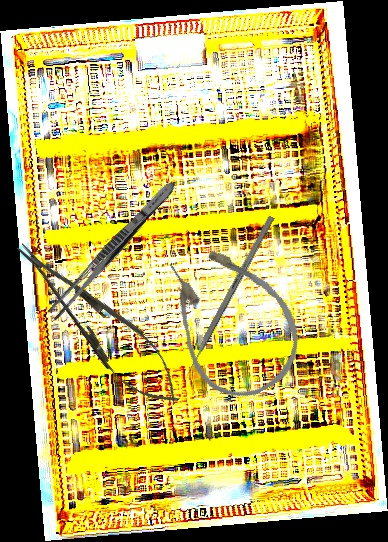Cannula: (143, 223, 319, 415)
Dressing Forceps: (44, 175, 181, 325)
Needle Holder: (1, 226, 196, 421)
Pusher: (179, 214, 275, 387)
